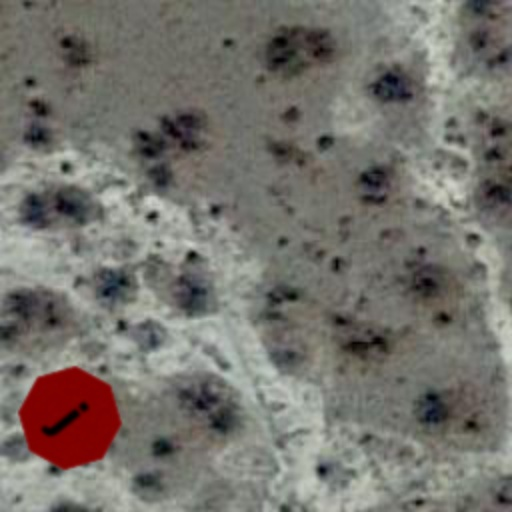octagon: (0, 344, 146, 492)
